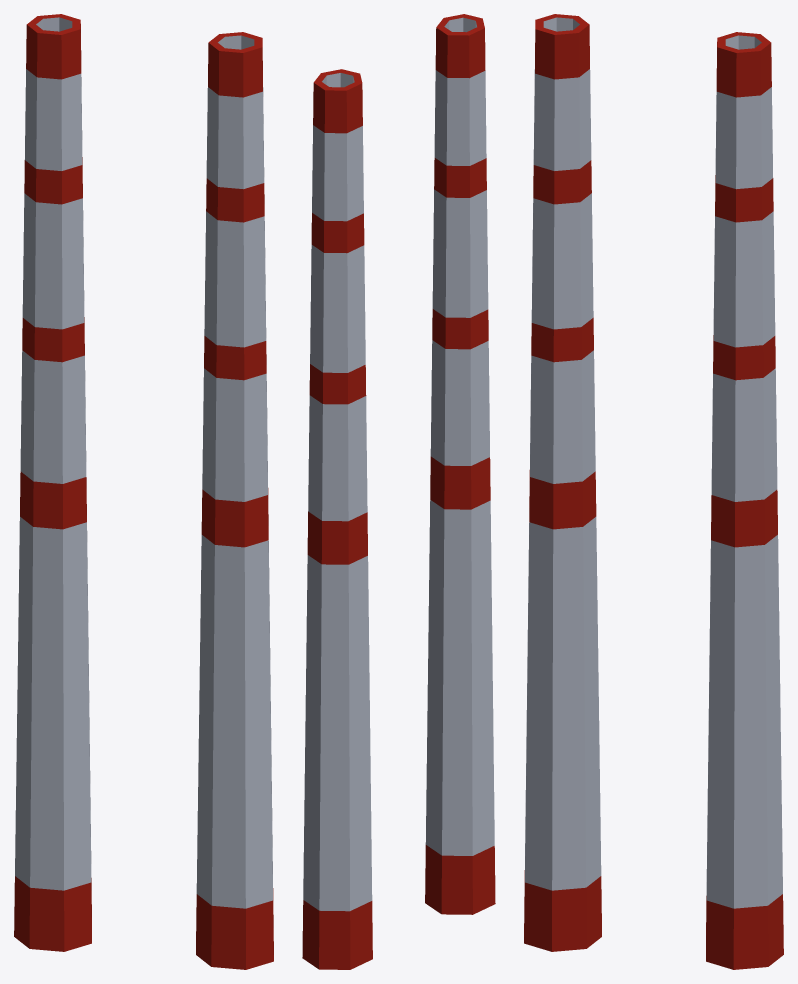
File: fabriko_kaminai.fbx
3 renders of one model, left to right at view 1: azimuth 90°, elevation 25°; view 2: azimuth 150°, elevation 25°; view 3: azimuth 270°, elevation 25°, orthographic. The views are drawn at different scales.
Visible parts, largest first — view 1: kaminai.002; view 2: kaminai.002; view 3: kaminai.002.
Boxes of the visible parts, left/top/right/bottom form: kaminai.002: left=14, top=14, right=273, bottom=969; kaminai.002: left=302, top=14, right=495, bottom=969; kaminai.002: left=524, top=14, right=783, bottom=969.
Bounding box in the file's own units: 79.66 × 700 × 181.
